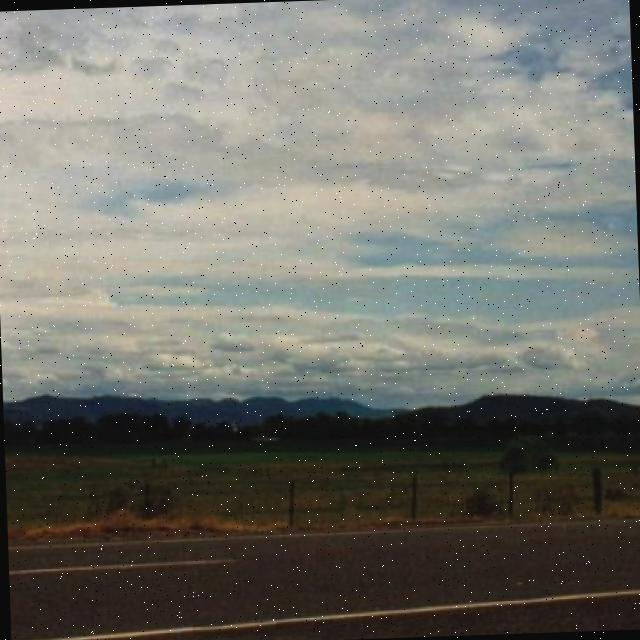Cs: (1, 1, 640, 376)
